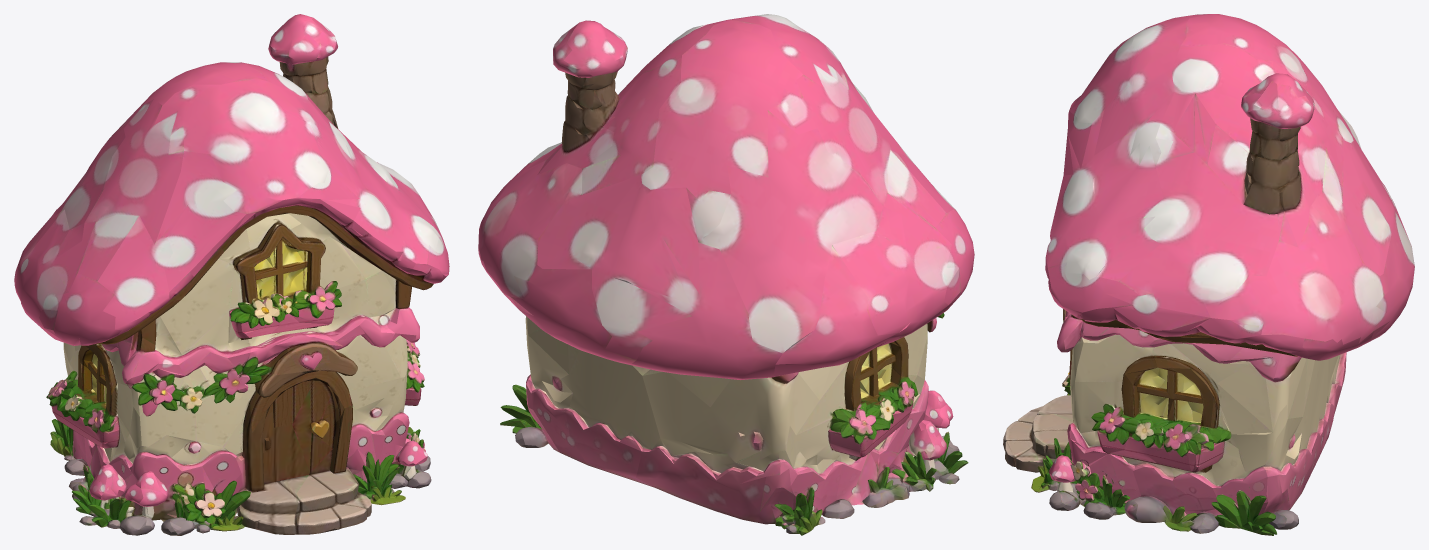
Rendered from place_house_mobile.glb.
3 renders of one model, left to right at view 1: azimuth 30°, elevation 25°; view 2: azimuth 150°, elevation 25°; view 3: azimuth 270°, elevation 25°, orthographic. The views are drawn at different scales.
Size of the model in its own units: 1.9 by 1.84 by 1.63.
Materials: 1 (1 with a texture image).
